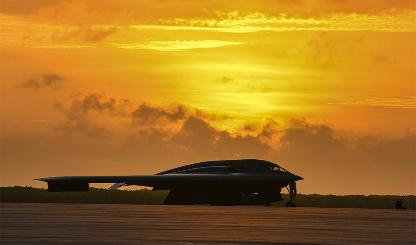B1: (32, 158, 304, 206)
